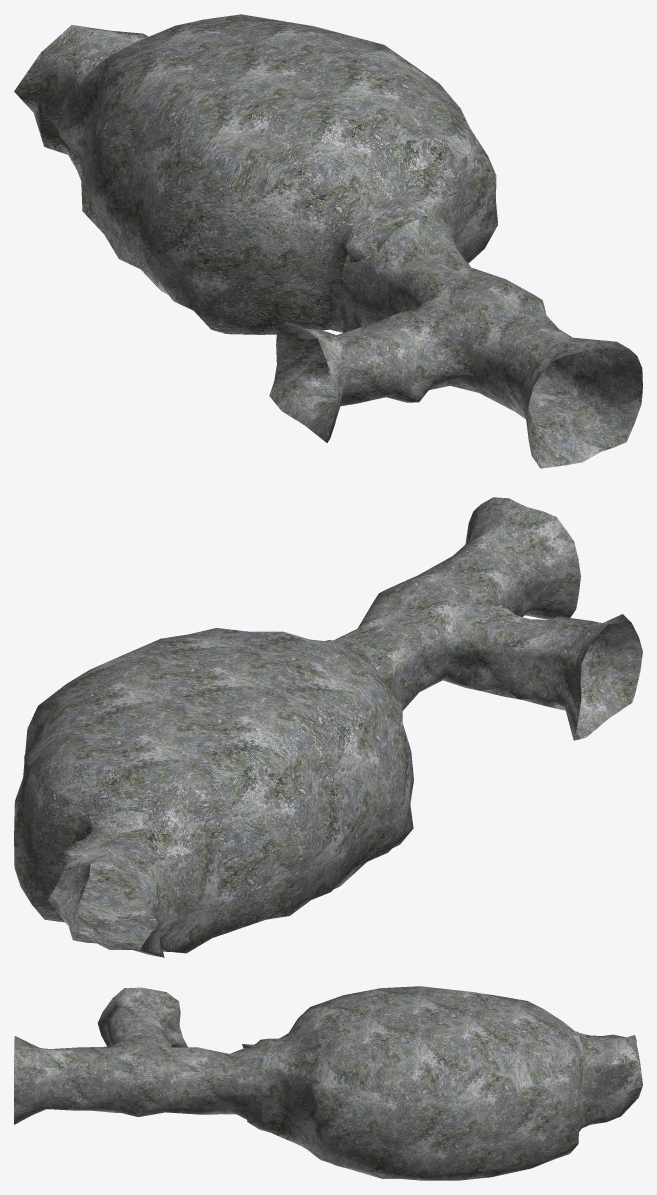
3 views of the same model, one above another, from view 1: azimuth 30°, elevation 25°; view 2: azimuth 150°, elevation 25°; view 3: azimuth 270°, elevation 25° (orthographic). The views are drawn at different scales.
Parts seen in each view (by area): view 1: Untitled_CaveTwo300, T_Junct_ONE300; view 2: Untitled_CaveTwo300, T_Junct_ONE300; view 3: Untitled_CaveTwo300, T_Junct_ONE300.
Boxes of the visible parts, left/top/right/bottom form: Untitled_CaveTwo300: left=14, top=14, right=497, bottom=334; T_Junct_ONE300: left=269, top=216, right=642, bottom=468; Untitled_CaveTwo300: left=14, top=628, right=413, bottom=957; T_Junct_ONE300: left=333, top=497, right=642, bottom=740; Untitled_CaveTwo300: left=242, top=986, right=642, bottom=1180; T_Junct_ONE300: left=14, top=987, right=262, bottom=1124.
Size of what is drawn, in the model's own units: 102 by 54.95 by 233.
Materials: 2 (2 with a texture image).
